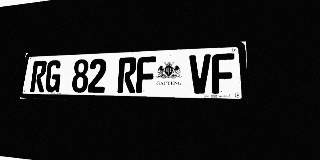2: (88, 58, 107, 93)
8: (71, 59, 90, 93)
F: (212, 53, 235, 94), (136, 56, 156, 93)
G: (44, 60, 62, 92)
R: (117, 57, 137, 93), (30, 61, 47, 92)
V: (189, 54, 211, 94)
